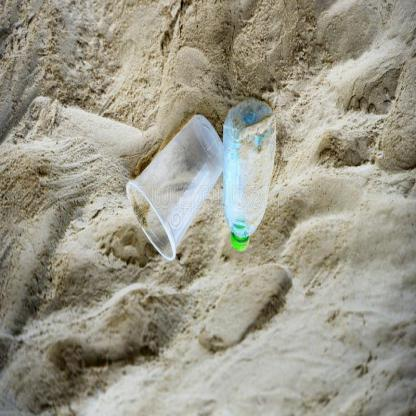Plastic: (123, 110, 227, 266), (221, 96, 278, 255)
